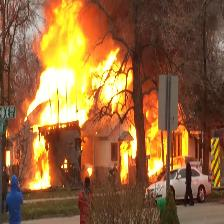fire: (41, 25, 190, 171)
